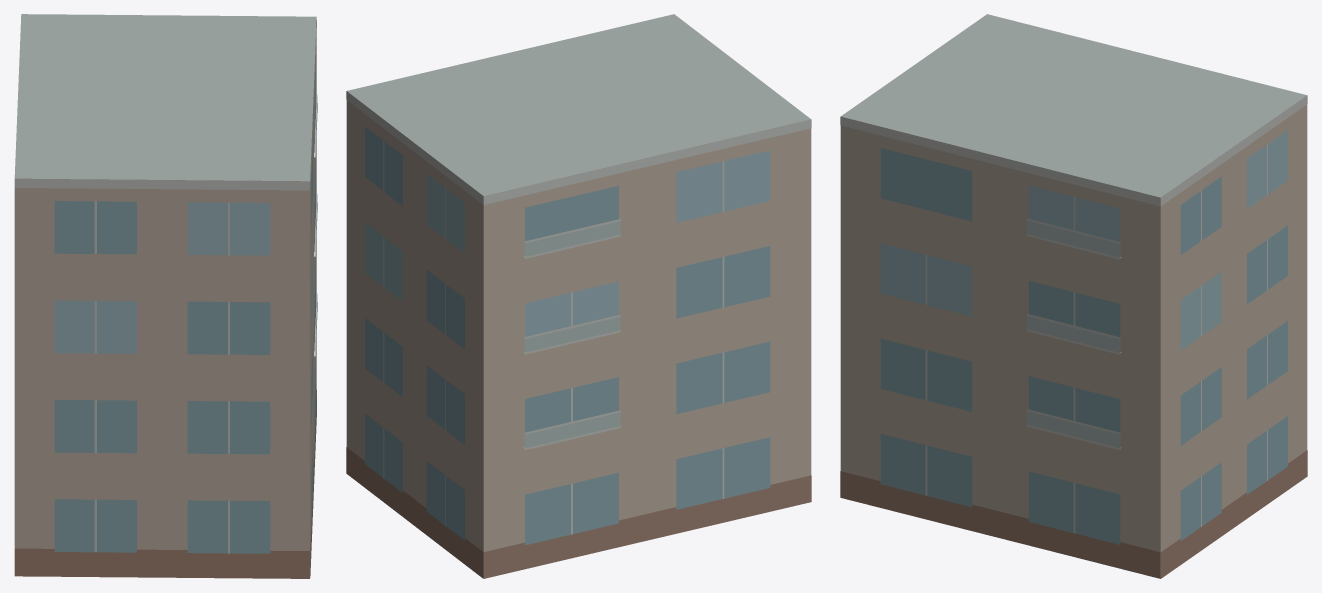
File: survey-upis-32692031.glb
3 renders of one model, left to right at view 1: azimuth 30°, elevation 25°; view 2: azimuth 150°, elevation 25°; view 3: azimuth 270°, elevation 25°, orthographic. The views are drawn at different scales.
Visible parts, largest first — view 1: survey-upis-32692031.tmp; view 2: survey-upis-32692031.tmp; view 3: survey-upis-32692031.tmp.
Part boxes in pixels (x1,y1,x2,y2): survey-upis-32692031.tmp: [14, 14, 317, 578]; survey-upis-32692031.tmp: [346, 14, 811, 578]; survey-upis-32692031.tmp: [840, 14, 1307, 578].
Size of the model in its own units: 10.86 by 10.5 by 11.66.
